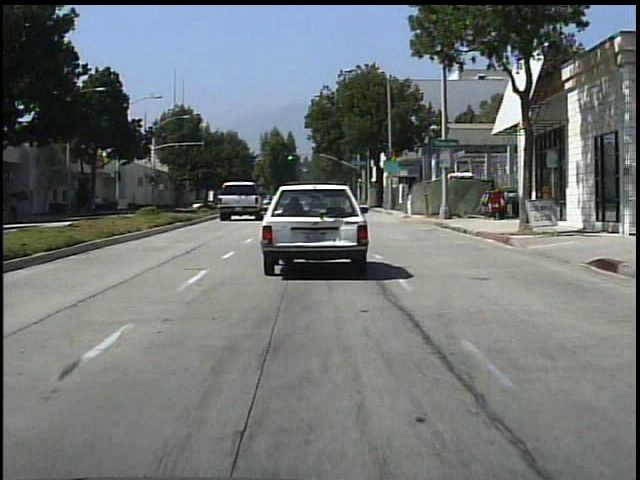person: (10, 195, 30, 227)
